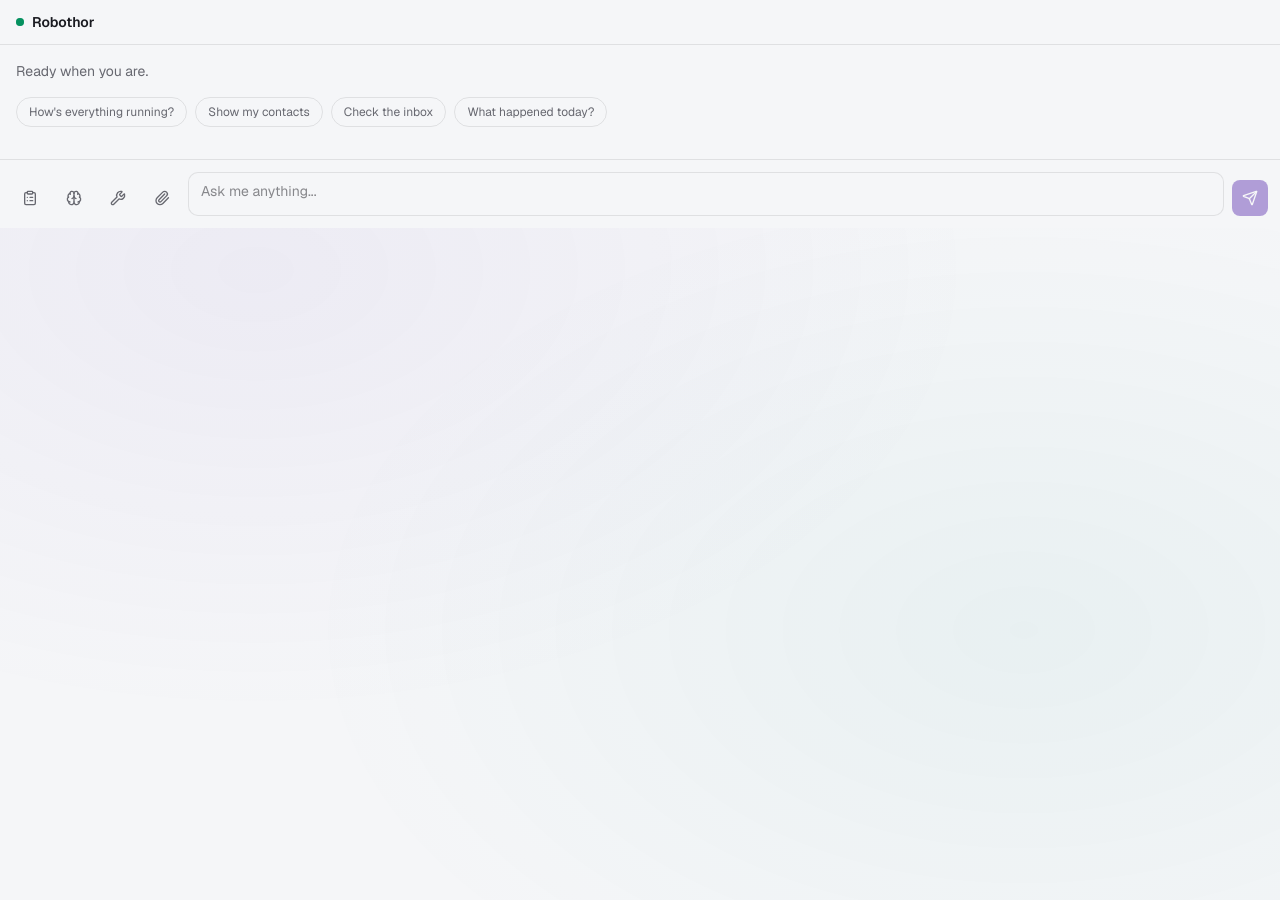
ChatPanel — an agent's question, on every stream › renders the card from the plan/start (exploration) stream
Click the button with test id "plan-toggle" at (30, 198), box left=12, top=180, right=48, bottom=216
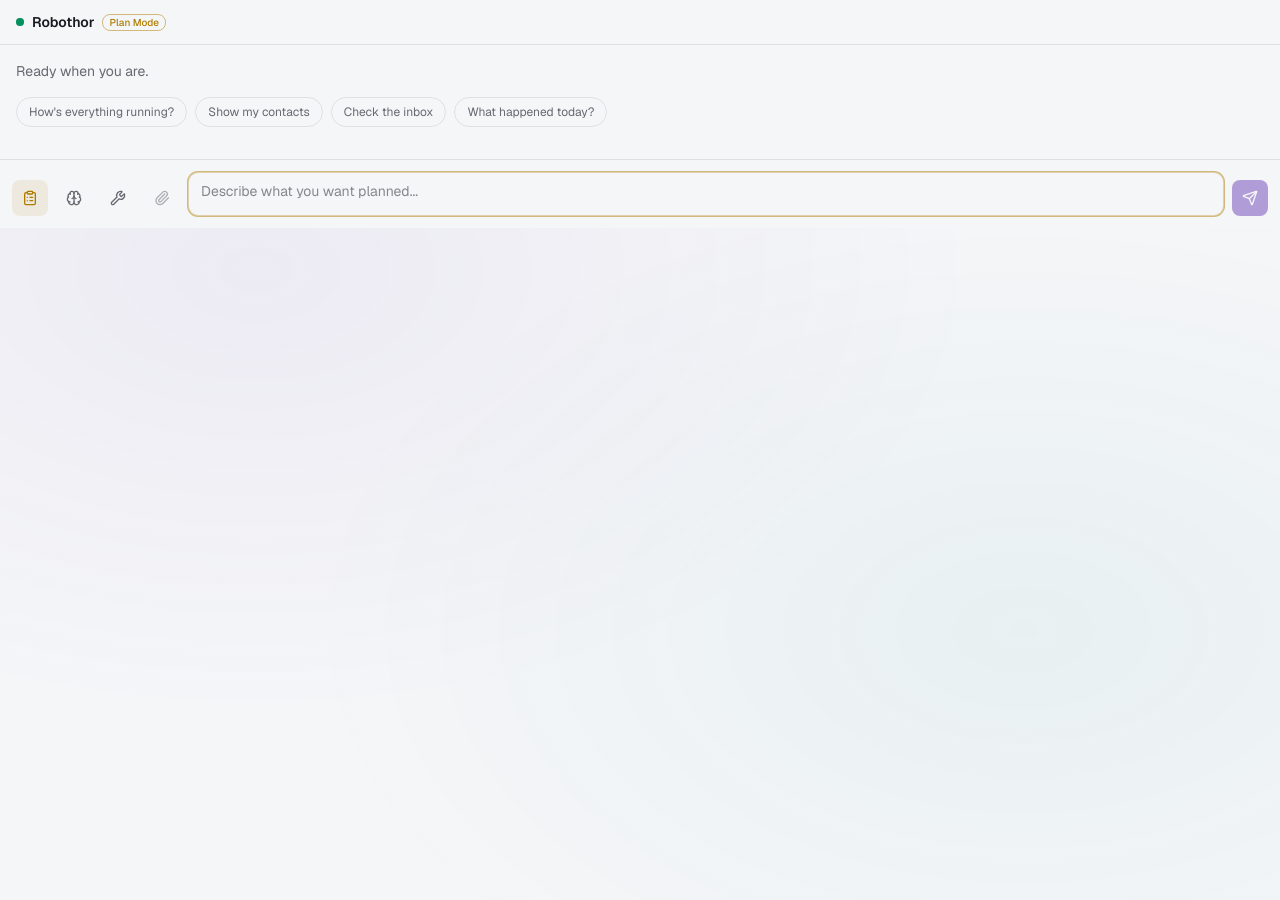
Type "sort out the vendor" into the text box with test id "chat-input" at (706, 194), box left=188, top=172, right=1224, bottom=216
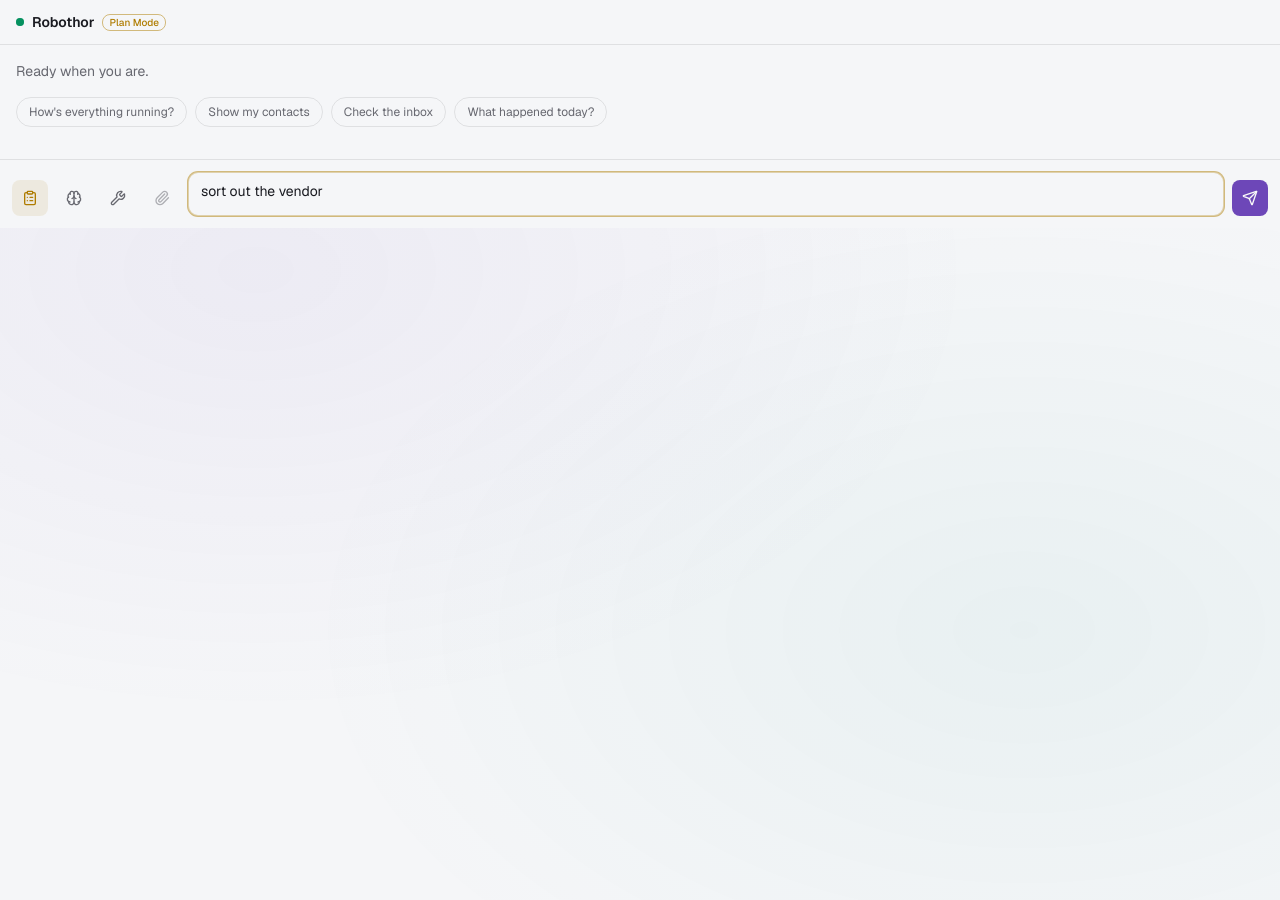
Click the button with test id "send-button" at (1250, 198), box left=1232, top=180, right=1268, bottom=216
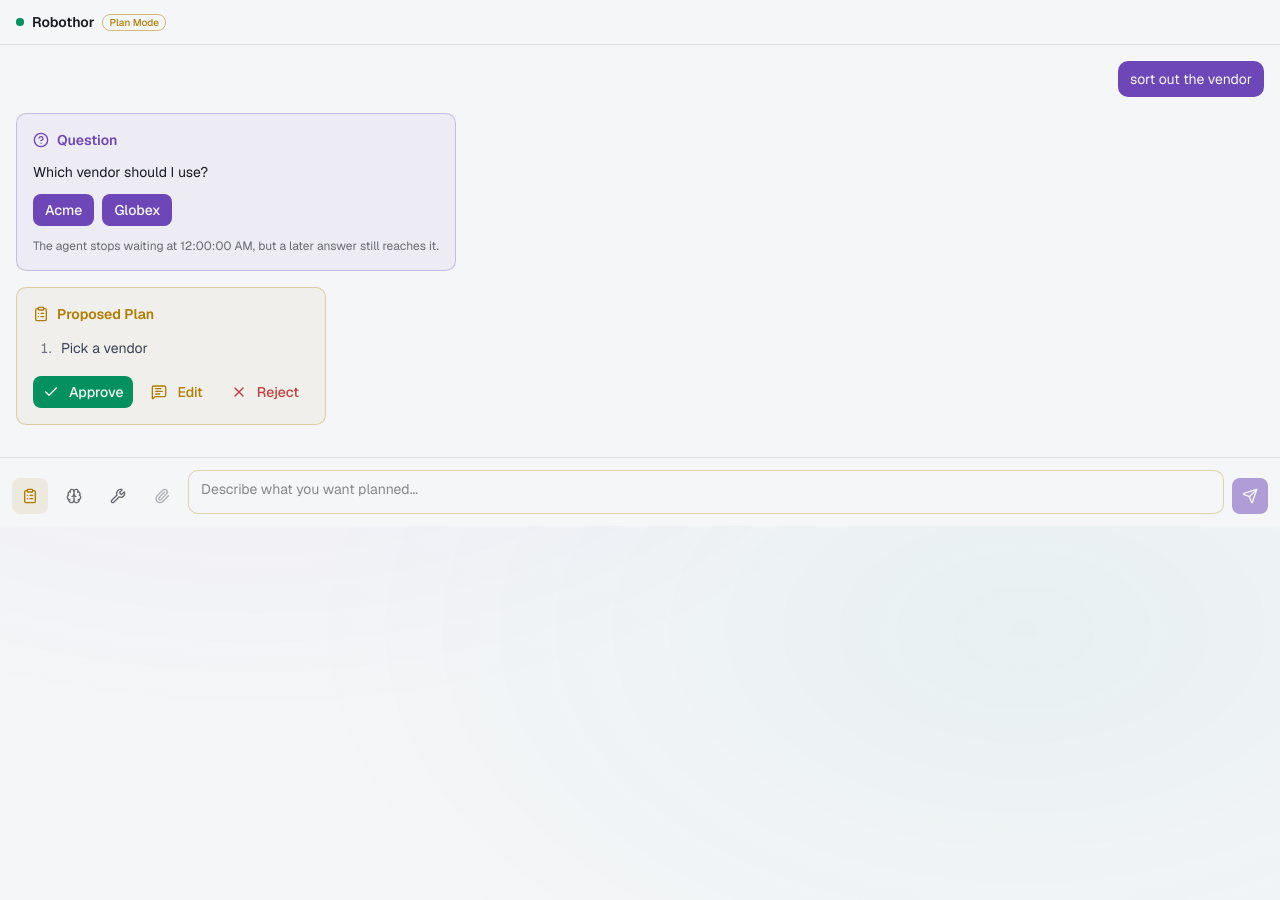
Check: the element with test id "ask-card" is shown, box left=16, top=113, right=456, bottom=271
Check: the element with test id "ask-card" shows "Which vendor should I use?", box left=33, top=163, right=208, bottom=181
